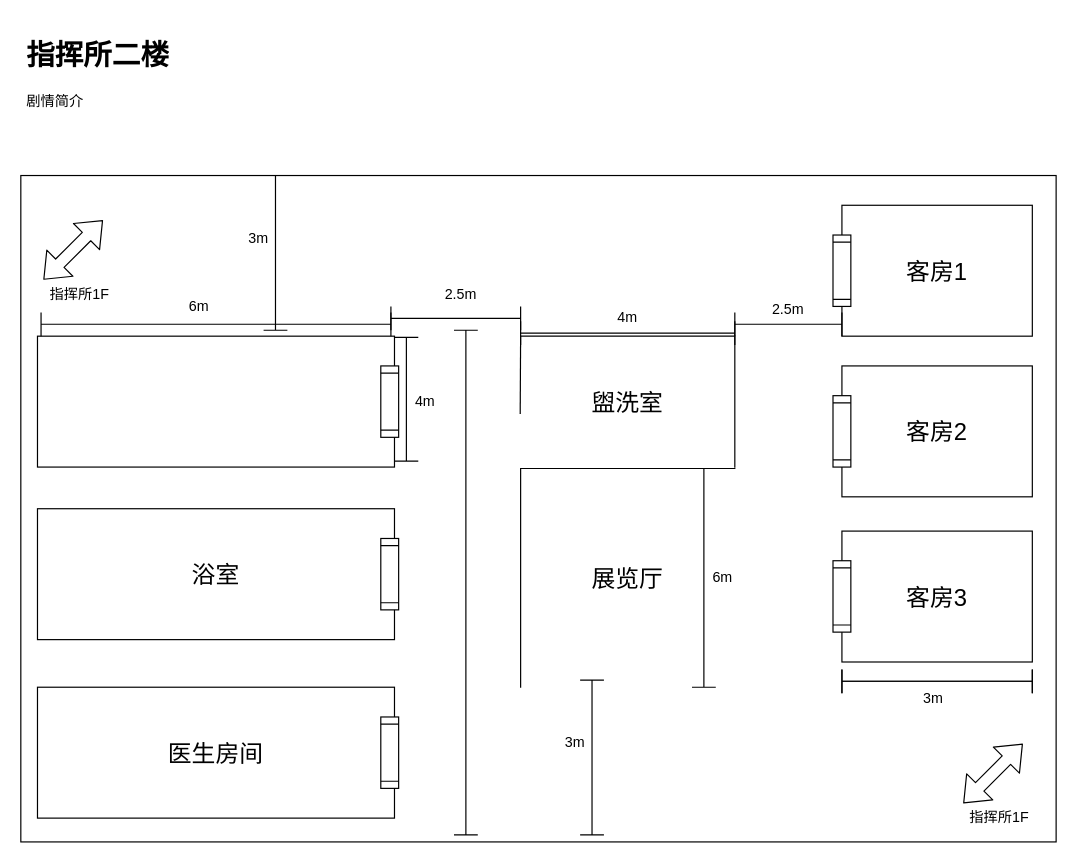
Some shapes in this 1077 by 863 pixel diagram are drawn without their labels. Here are the shapes that lost their labels. From the top down, the box of each, then its label:
(36, 335, 394, 467): 典狱长房间
(453, 329, 478, 835): 12m
